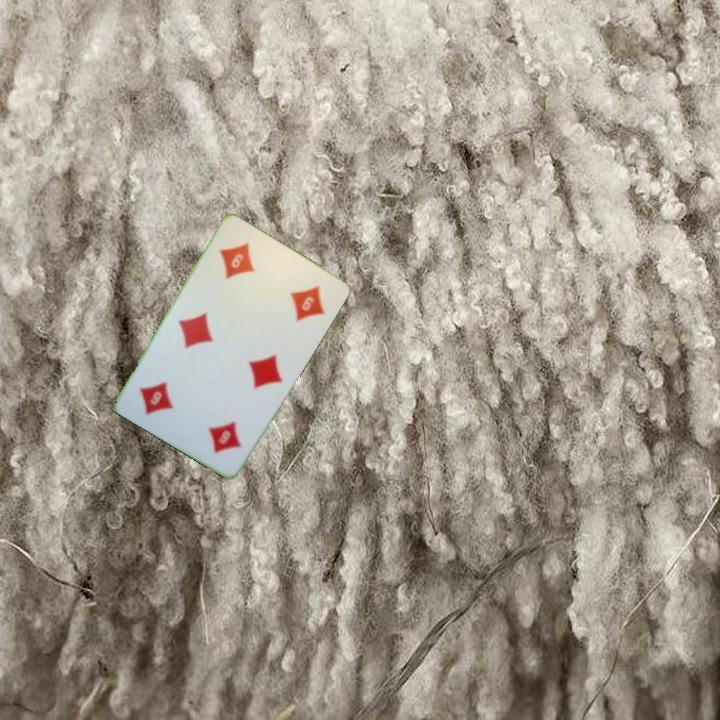d_6.png: (175, 387, 260, 469), (202, 224, 287, 306)
